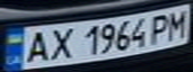1: (78, 22, 100, 56)
4: (127, 15, 151, 48)
6: (115, 17, 136, 52)
9: (96, 20, 121, 55)
A: (18, 28, 54, 64)
M: (163, 7, 190, 42)
P: (145, 11, 175, 45)
X: (45, 25, 78, 61)
